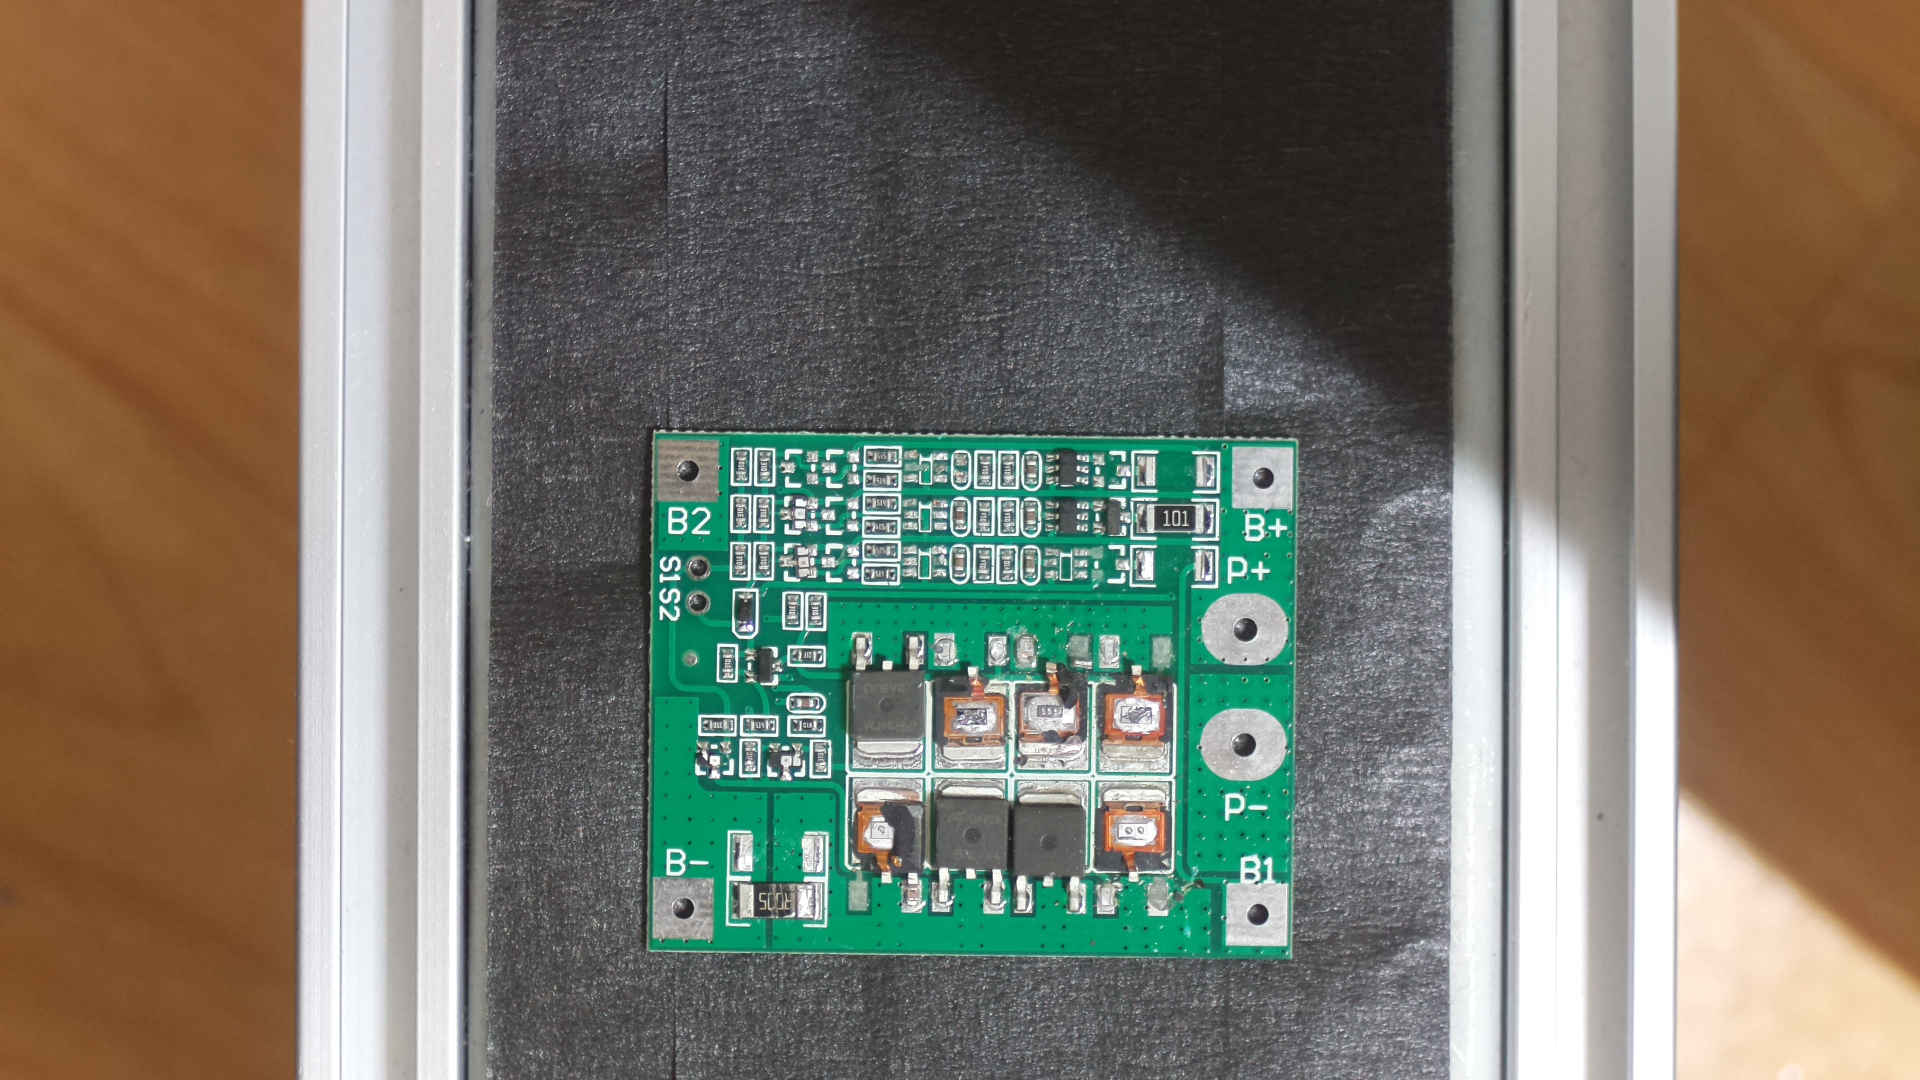C_Missing_part: (640, 414, 1303, 969)
